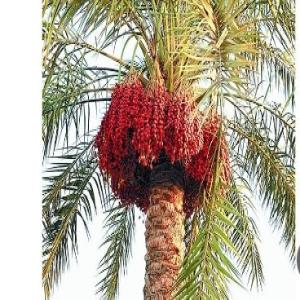palm tree: (41, 0, 295, 299)
